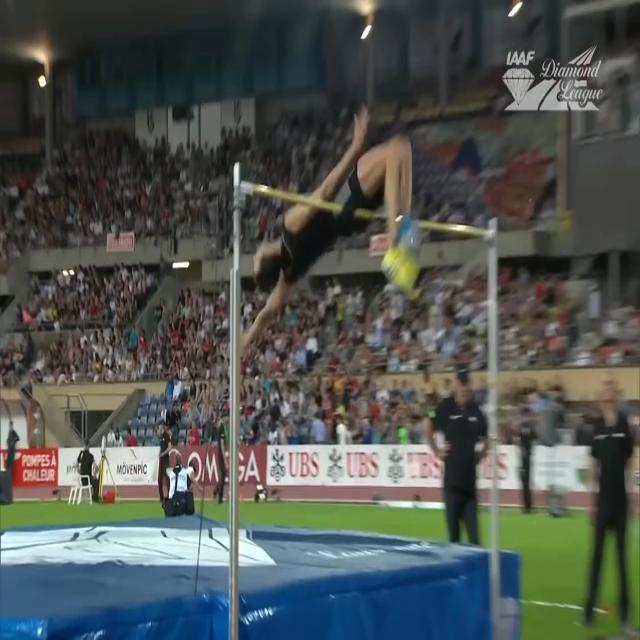jump: (239, 106, 419, 356)
